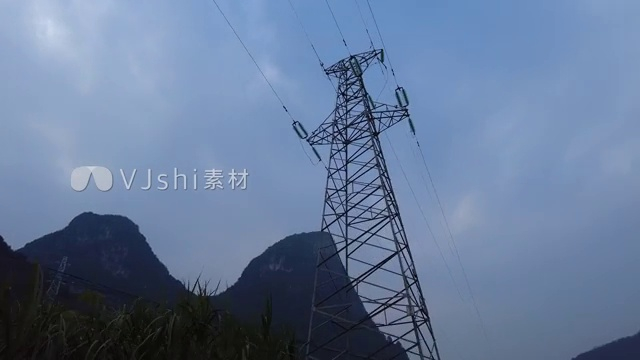tower_body: (297, 41, 445, 360)
tower_foot: (305, 286, 438, 360)
tower_head: (313, 47, 392, 80)
